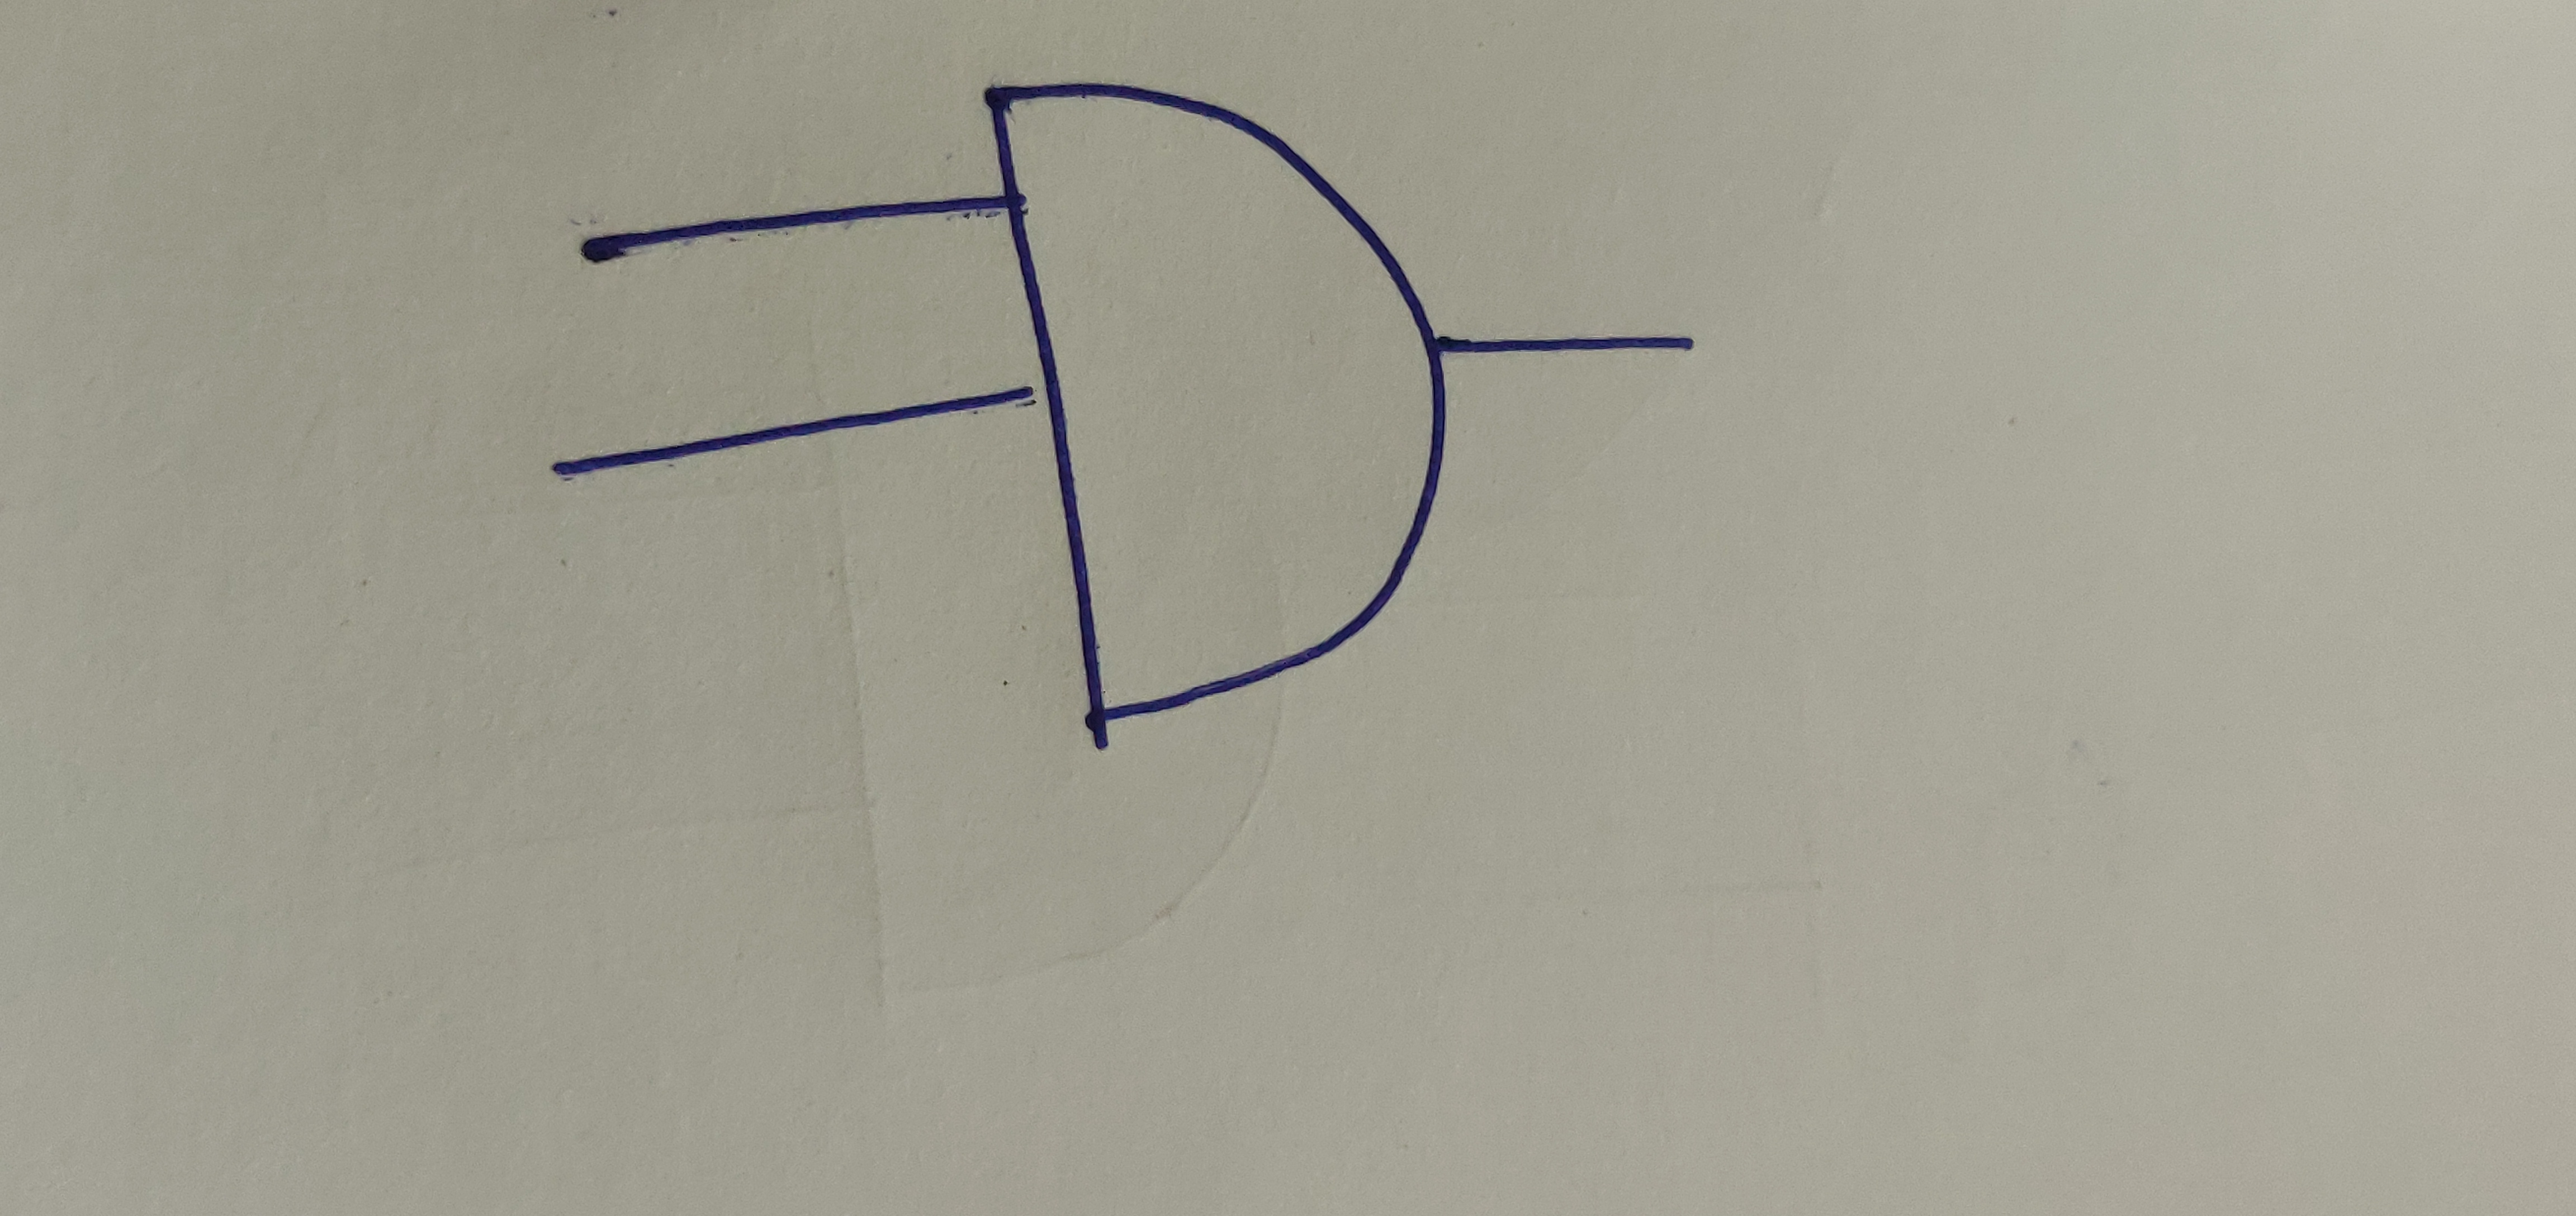and: (982, 79, 1451, 718)
